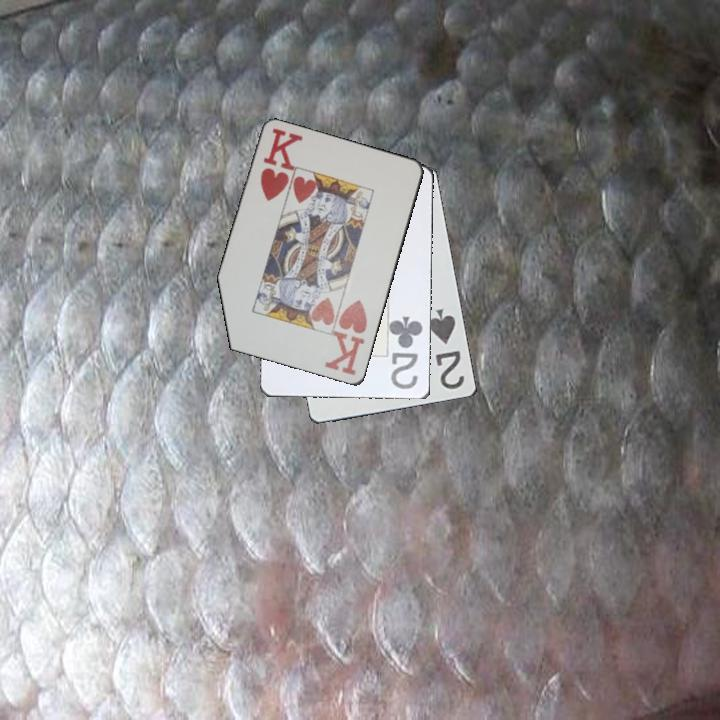2c: (388, 313, 426, 392)
2s: (425, 305, 468, 393)
Kh: (323, 296, 371, 379), (257, 125, 302, 204)
